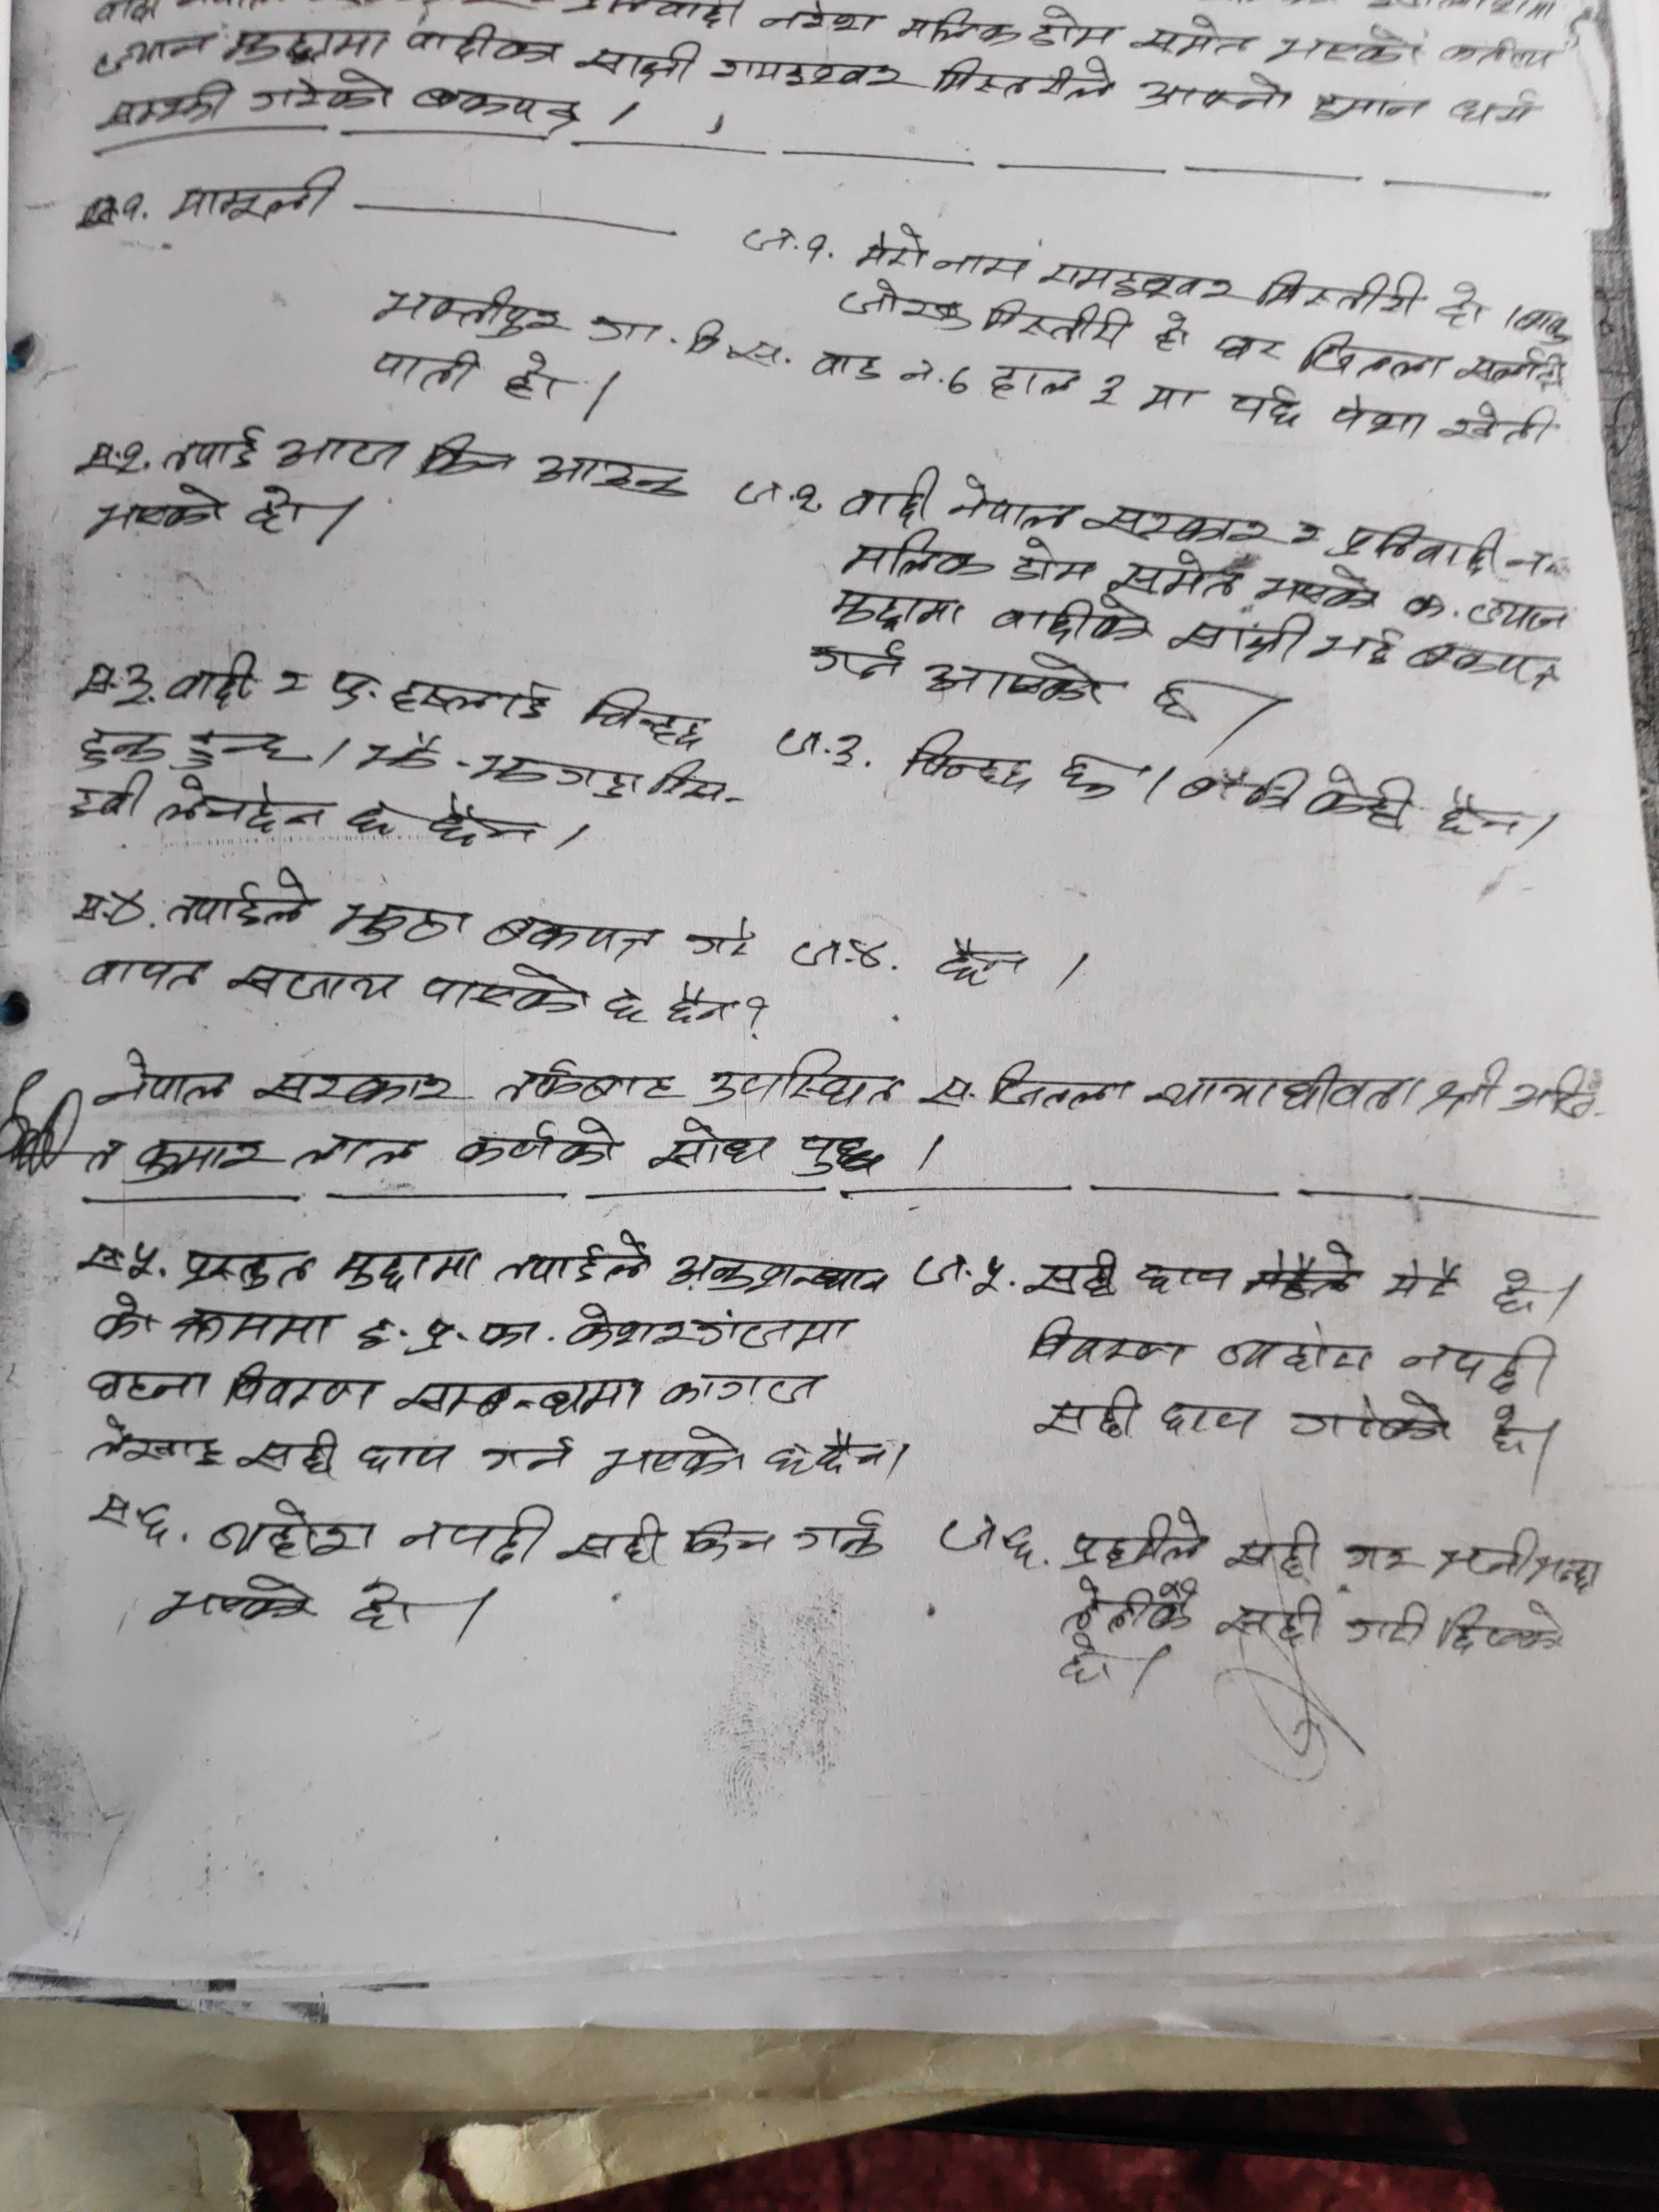text: (561, 1298, 857, 1357), (1147, 1059, 1419, 1118), (324, 660, 558, 726), (694, 1043, 904, 1109), (368, 275, 566, 341), (667, 1249, 892, 1305), (922, 650, 1110, 716), (1436, 1526, 1610, 1597), (392, 1371, 647, 1420), (1399, 1325, 1572, 1395), (394, 1501, 558, 1575), (592, 312, 793, 371), (167, 164, 350, 228), (247, 1061, 462, 1115), (159, 773, 333, 840), (1035, 251, 1239, 305), (211, 1498, 382, 1562), (1290, 1388, 1457, 1453), (420, 961, 596, 1022), (587, 1421, 749, 1487), (903, 726, 1040, 803), (532, 441, 694, 505), (1023, 1313, 1190, 1374), (934, 52, 1122, 106), (157, 866, 319, 928), (1262, 261, 1432, 320), (1063, 1505, 1215, 1571), (1335, 517, 1504, 577), (85, 1049, 240, 1113), (451, 1111, 619, 1170), (152, 1569, 317, 1629), (708, 44, 908, 92), (479, 909, 666, 961), (467, 747, 645, 801), (490, 1230, 655, 1287), (220, 960, 408, 1010), (80, 481, 230, 543), (1405, 636, 1563, 695), (82, 1416, 230, 1479), (1213, 1322, 1370, 1381), (1082, 502, 1277, 549), (1060, 1573, 1201, 1637), (488, 1059, 688, 1104), (1436, 1595, 1568, 1663), (836, 529, 1002, 583), (173, 1301, 338, 1355), (225, 1360, 380, 1418), (985, 596, 1154, 648), (354, 1310, 540, 1357), (575, 686, 708, 752), (1260, 19, 1427, 71), (836, 279, 976, 341), (328, 892, 471, 951), (983, 296, 1134, 352), (1295, 327, 1450, 381), (1164, 611, 1314, 667), (985, 1061, 1134, 1115), (1101, 545, 1246, 601), (948, 472, 1084, 531), (1309, 758, 1413, 834), (556, 1507, 669, 1576), (641, 1115, 774, 1174), (760, 1423, 890, 1482), (404, 21, 561, 70), (176, 1238, 315, 1292), (1133, 71, 1298, 117), (1178, 761, 1310, 817), (270, 423, 406, 477), (127, 1134, 270, 1184), (220, 23, 392, 64), (655, 1369, 835, 1409), (575, 33, 704, 89), (237, 1423, 349, 1487), (1504, 1059, 1601, 1132), (1223, 1517, 1330, 1583), (824, 587, 967, 636), (328, 1245, 481, 1291), (1032, 1379, 1141, 1442), (429, 791, 537, 853), (835, 462, 945, 523), (1251, 561, 1384, 611), (89, 28, 214, 80), (289, 1129, 423, 1177), (1215, 1592, 1328, 1649), (369, 343, 484, 399), (894, 3, 1025, 52), (1424, 1050, 1507, 1123), (1436, 399, 1556, 449), (162, 650, 261, 711), (1127, 12, 1251, 59), (793, 1507, 894, 1564), (1018, 1249, 1127, 1299), (164, 421, 267, 474), (181, 726, 303, 770), (1157, 1399, 1262, 1449), (498, 341, 573, 411), (82, 1366, 218, 1404), (1434, 789, 1520, 850), (1448, 82, 1551, 132), (350, 1437, 457, 1486), (1002, 535, 1098, 589), (1312, 617, 1399, 676), (805, 639, 906, 690), (676, 1514, 777, 1564), (786, 1130, 884, 1183), (986, 357, 1080, 411), (934, 934, 1025, 989), (356, 726, 451, 779), (82, 956, 211, 995), (1134, 1252, 1239, 1299), (1326, 392, 1429, 439), (681, 911, 762, 970), (1345, 1597, 1431, 1651), (1028, 3, 1122, 52), (63, 773, 157, 822), (1305, 91, 1429, 127), (240, 482, 319, 540), (758, 2, 880, 38), (77, 726, 171, 773), (936, 242, 1033, 287), (1464, 592, 1572, 632), (479, 1433, 579, 1477), (89, 1289, 159, 1348), (1227, 380, 1305, 432), (1054, 749, 1127, 805), (1380, 1254, 1459, 1305), (854, 221, 927, 275), (347, 1580, 422, 1632), (809, 343, 889, 392), (662, 979, 735, 1029), (1483, 1399, 1534, 1468), (1344, 1534, 1415, 1580), (1211, 324, 1286, 366), (1439, 275, 1490, 334), (342, 799, 397, 850), (1493, 1266, 1544, 1322), (1134, 376, 1204, 415), (601, 984, 647, 1035), (1150, 307, 1194, 357), (924, 1073, 974, 1116), (1087, 371, 1127, 413), (943, 361, 979, 401)
